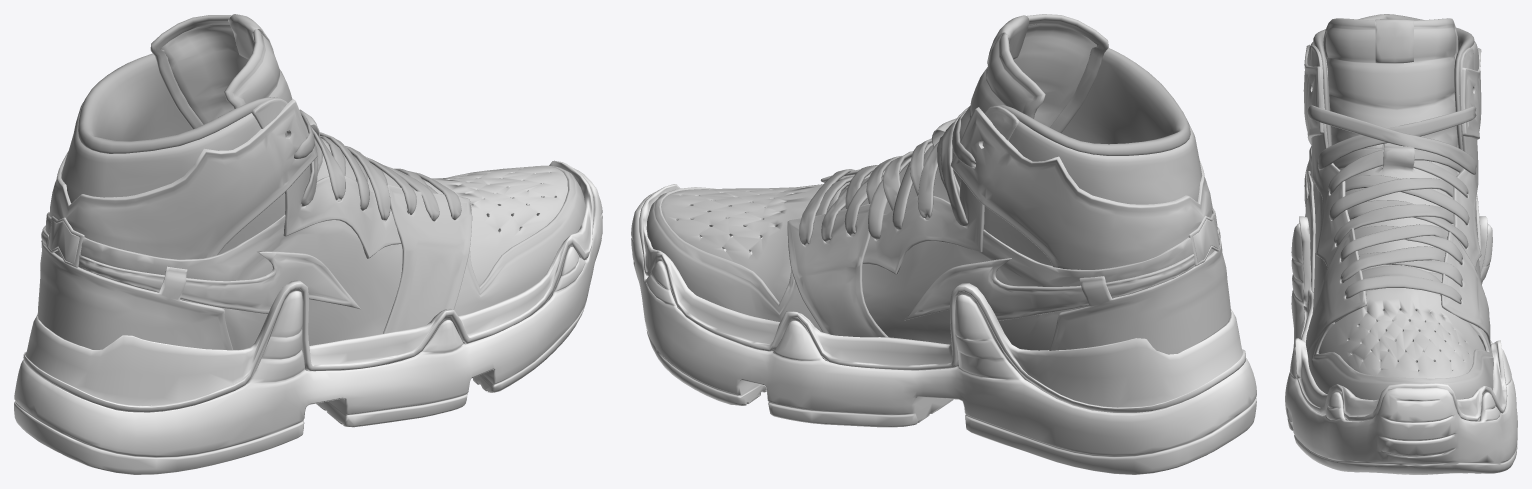
Rendered from rtfkt-creator-one.glb.
3 renders of one model, left to right at view 1: azimuth 30°, elevation 25°; view 2: azimuth 150°, elevation 25°; view 3: azimuth 270°, elevation 25°, orthographic. The views are drawn at different scales.
Visible parts, largest first — view 1: Object_2; view 2: Object_2; view 3: Object_2.
Part boxes in pixels (box(x1,y1,x2,y2)): Object_2: box(14, 14, 602, 474); Object_2: box(631, 14, 1256, 474); Object_2: box(1285, 14, 1517, 474).
Size of the model in its own units: 30.93 by 19.58 by 12.02.
Materials: 1 (1 with a texture image).
